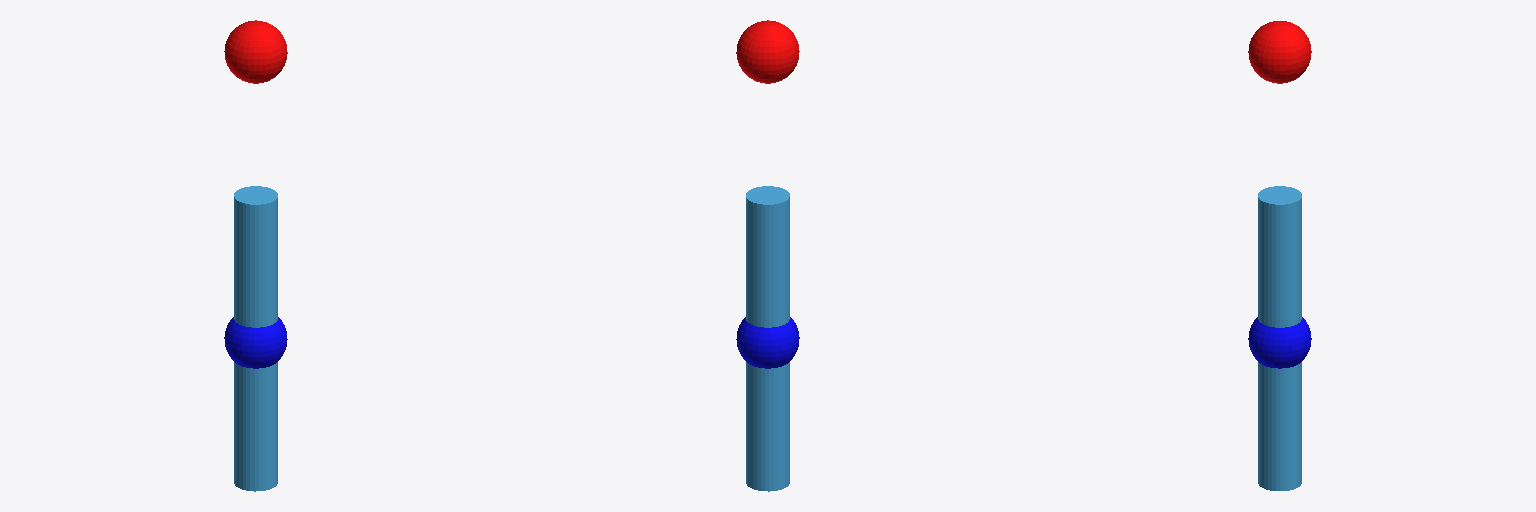
robot.urdf — RBot_description:
<?xml version="1.0" ?>
<!--simple pbot-->

<robot name="RBot_description">
    <link name="base_link">
        <inertial>
            <origin xyz="0.0 0.0 0.0" rpy="0 0 0" />
            <mass value="1" />
            <inertia ixx="0.1" iyy="0.1" izz="0.1" ixy="0" ixz="0" iyz="0" />
        </inertial>
        <visual>
            <origin xyz="0.0 0.0 0.0" rpy="0 0 0" />
            <geometry>
                <sphere radius="0.1" />
            </geometry>
            <material name="material_red">
                <color rgba="1.0 0.1 0.1 1.0" />
            </material>
        </visual>
    </link>
    <link name="link0">
        <inertial>
            <origin xyz="0.0 0.0 -1.0" rpy="0 0 0" />
            <mass value="1" />
            <inertia ixx="0.1" iyy="0.1" izz="0.1" ixy="0" ixz="0" iyz="0" />
        </inertial>
        <visual>
            <origin xyz="0.0 0.0 -1.0" rpy="0 0 0" />
            <geometry>
                <cylinder radius="0.07" length="1.0" />
            </geometry>
        </visual>
        <visual>
            <origin xyz="0.0 0.0 -1.0" rpy="0 0 0" />
            <geometry>
                <sphere radius="0.1" />
            </geometry>
            <material name="material_red">
                <color rgba="0.1 0.1 1.0 1.0" />
            </material>
        </visual>
    </link>
    
    <joint name="j0" type="revolute">
        <parent link="base_link" />
        <child link="link0" />
        <origin xyz="0.000000 0.000000 0.000000" rpy="-0.000000 0.000000 -0.000000" />
        <axis xyz="1 0 0" />
        <calibration rising="2.0" />
        <limit lower="-2.967" upper="2.967" effort="176" velocity="1.7104" />
    </joint>
    
</robot>

--- What the picture shows (computed from the rendered views, not written in the file) ---
3 views of the same robot in one strip: view 1: azimuth 30°, elevation 25°; view 2: azimuth 150°, elevation 25°; view 3: azimuth 270°, elevation 25° (orthographic).
Robot: RBot_description — 2 links, 1 joints (1 revolute); root link base_link; default pose: every joint at zero.
Links seen in each view (by area): view 1: link0, base_link; view 2: link0, base_link; view 3: link0, base_link.
Link boxes in pixels (x1,y1,x2,y2): link0: (224, 186, 287, 491); base_link: (224, 20, 287, 83); link0: (736, 186, 799, 491); base_link: (736, 20, 799, 83); link0: (1248, 186, 1311, 490); base_link: (1248, 21, 1311, 83).
Size in the robot's own frame: 0.2 by 0.2 by 1.6 metres.
Geometry: primitives only (box / cylinder / sphere), no mesh files.